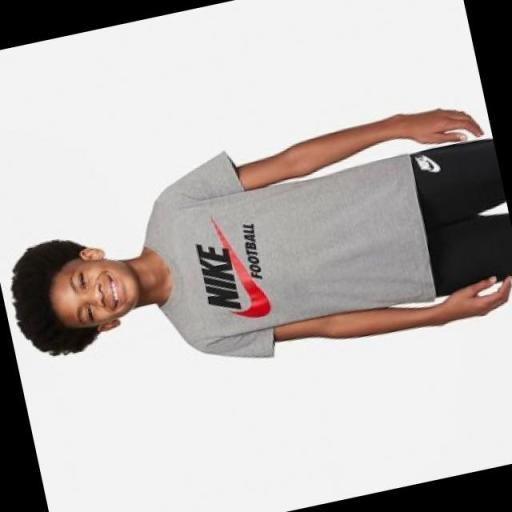Nike: (219, 222, 274, 324), (195, 238, 241, 315)
